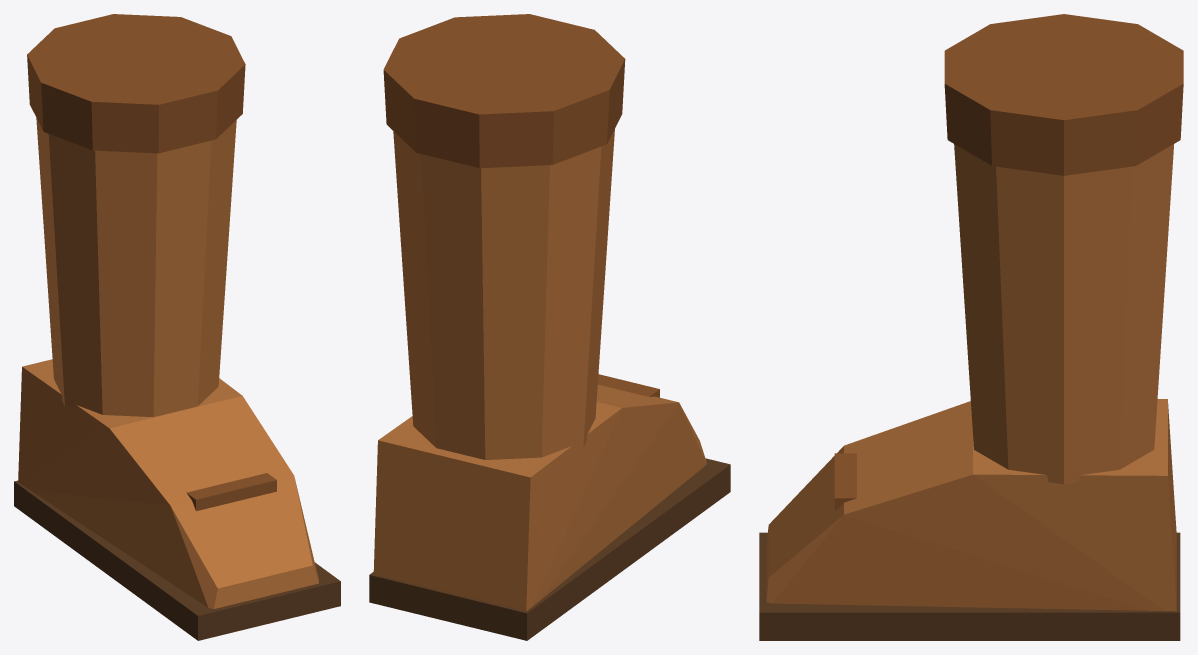
The model's file is gear_bronze_boots_leg_r.glb.
3 renders of one model, left to right at view 1: azimuth 30°, elevation 25°; view 2: azimuth 150°, elevation 25°; view 3: azimuth 270°, elevation 25°, orthographic. The views are drawn at different scales.
Visible parts, largest first — view 1: gear_bronze_boots_leg_r; view 2: gear_bronze_boots_leg_r; view 3: gear_bronze_boots_leg_r.
Part boxes in pixels (bbox=[...]): gear_bronze_boots_leg_r: bbox=[14, 14, 340, 640]; gear_bronze_boots_leg_r: bbox=[369, 14, 730, 640]; gear_bronze_boots_leg_r: bbox=[759, 14, 1183, 640].
Size of the model in its own units: 0.16 by 0.375 by 0.2701.
